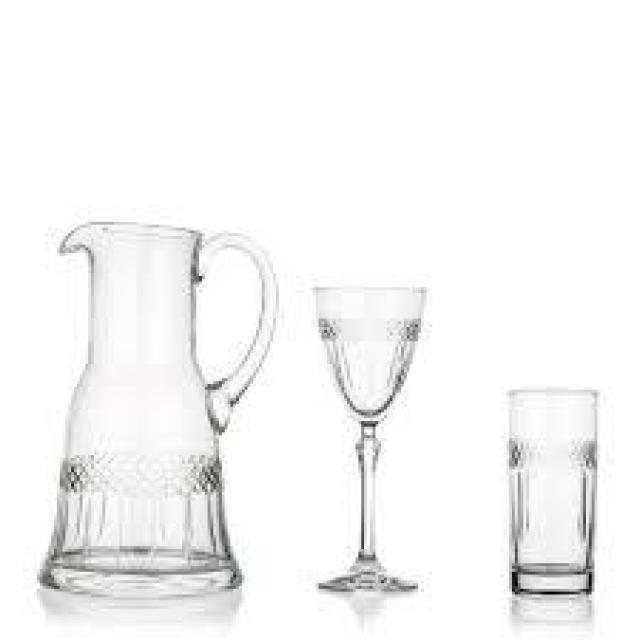non-organic waste: (22, 213, 292, 606), (299, 276, 441, 603), (497, 379, 608, 602)
